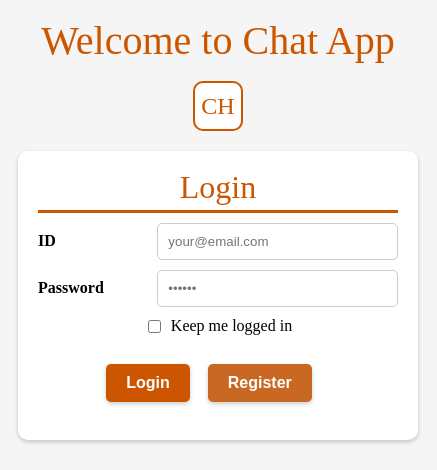
Test case: Login Component › handleLoginUser sets general error message when clicking on login button with valid inputs but account does not exist
# Set valid values that pass input validation but fail login
Step 1. Type "user@email.com" into the field labelled "ID" → (278, 241), box x1=157 y1=222 x2=398 y2=260
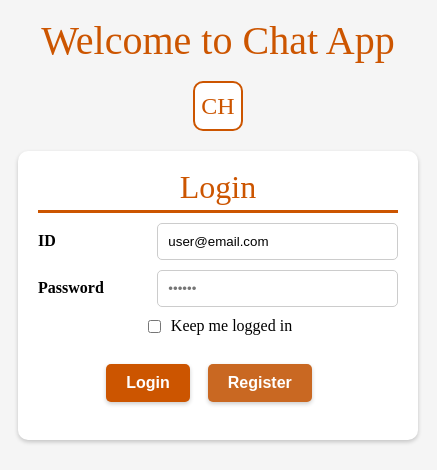
Step 2. Type "Password123" into the password field labelled "Password" → (278, 288), box x1=157 y1=270 x2=398 y2=306
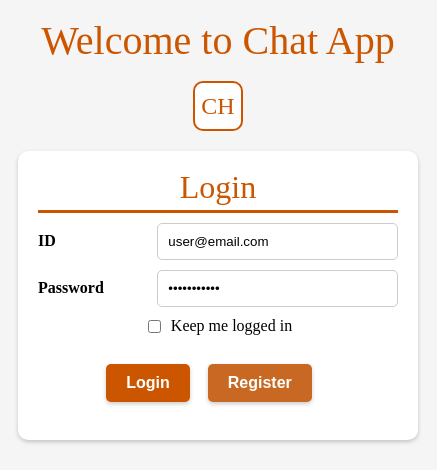
Step 3. Click the button "Login" → click(148, 382), box x1=106 y1=364 x2=190 y2=402
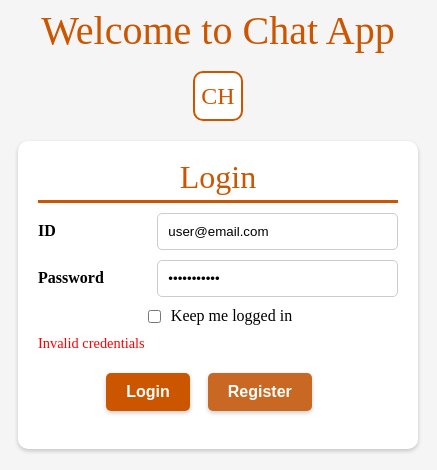
Expected: the text "Invalid credentials" is shown, x1=38 y1=335 x2=145 y2=351
